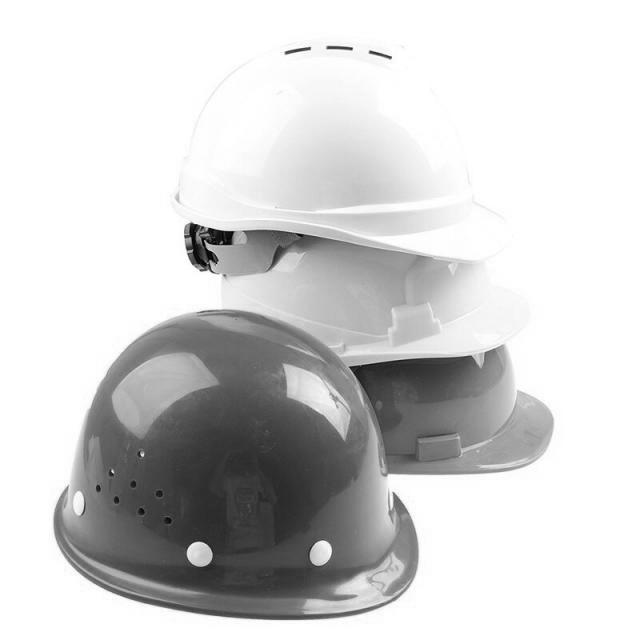construction helmet: (53, 310, 421, 621), (168, 41, 514, 269)
